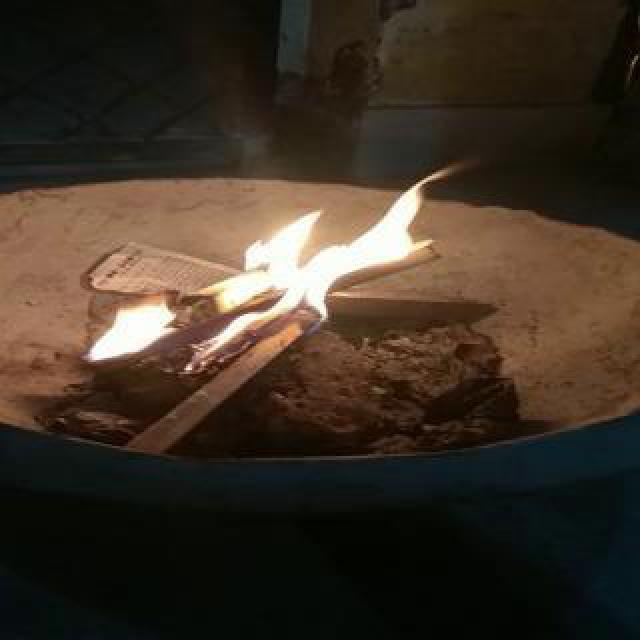zfire: (74, 146, 500, 380)
